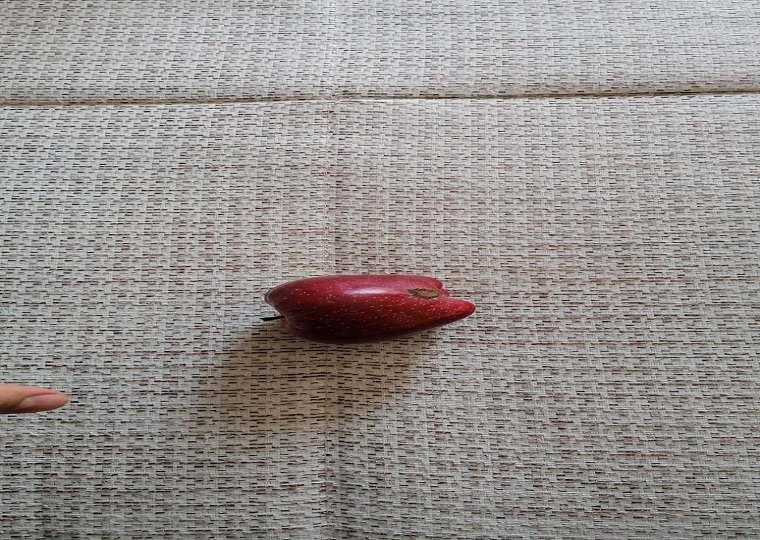elma: (261, 273, 476, 345)
